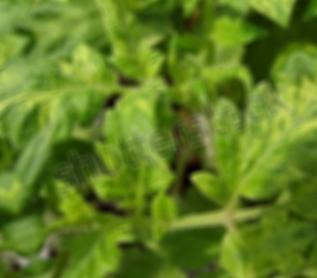Tomato leaf mosaic virus: (178, 46, 317, 212), (64, 74, 206, 228), (0, 18, 130, 167), (92, 0, 177, 103), (203, 193, 317, 267), (27, 208, 147, 278), (197, 0, 298, 81)
